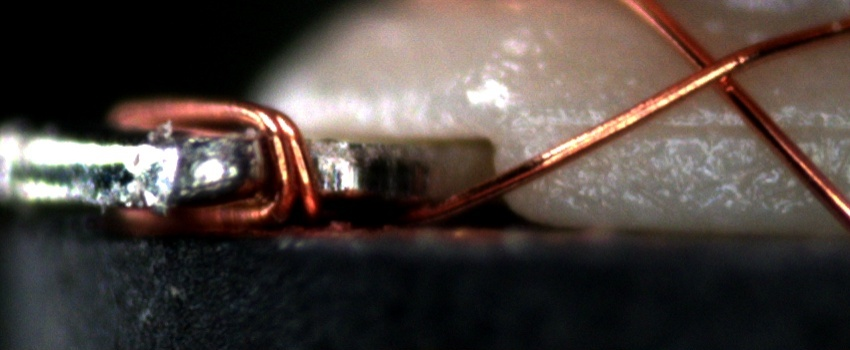CL: (674, 40, 751, 101)
DL: (521, 98, 850, 155)
TE: (112, 96, 320, 224)
